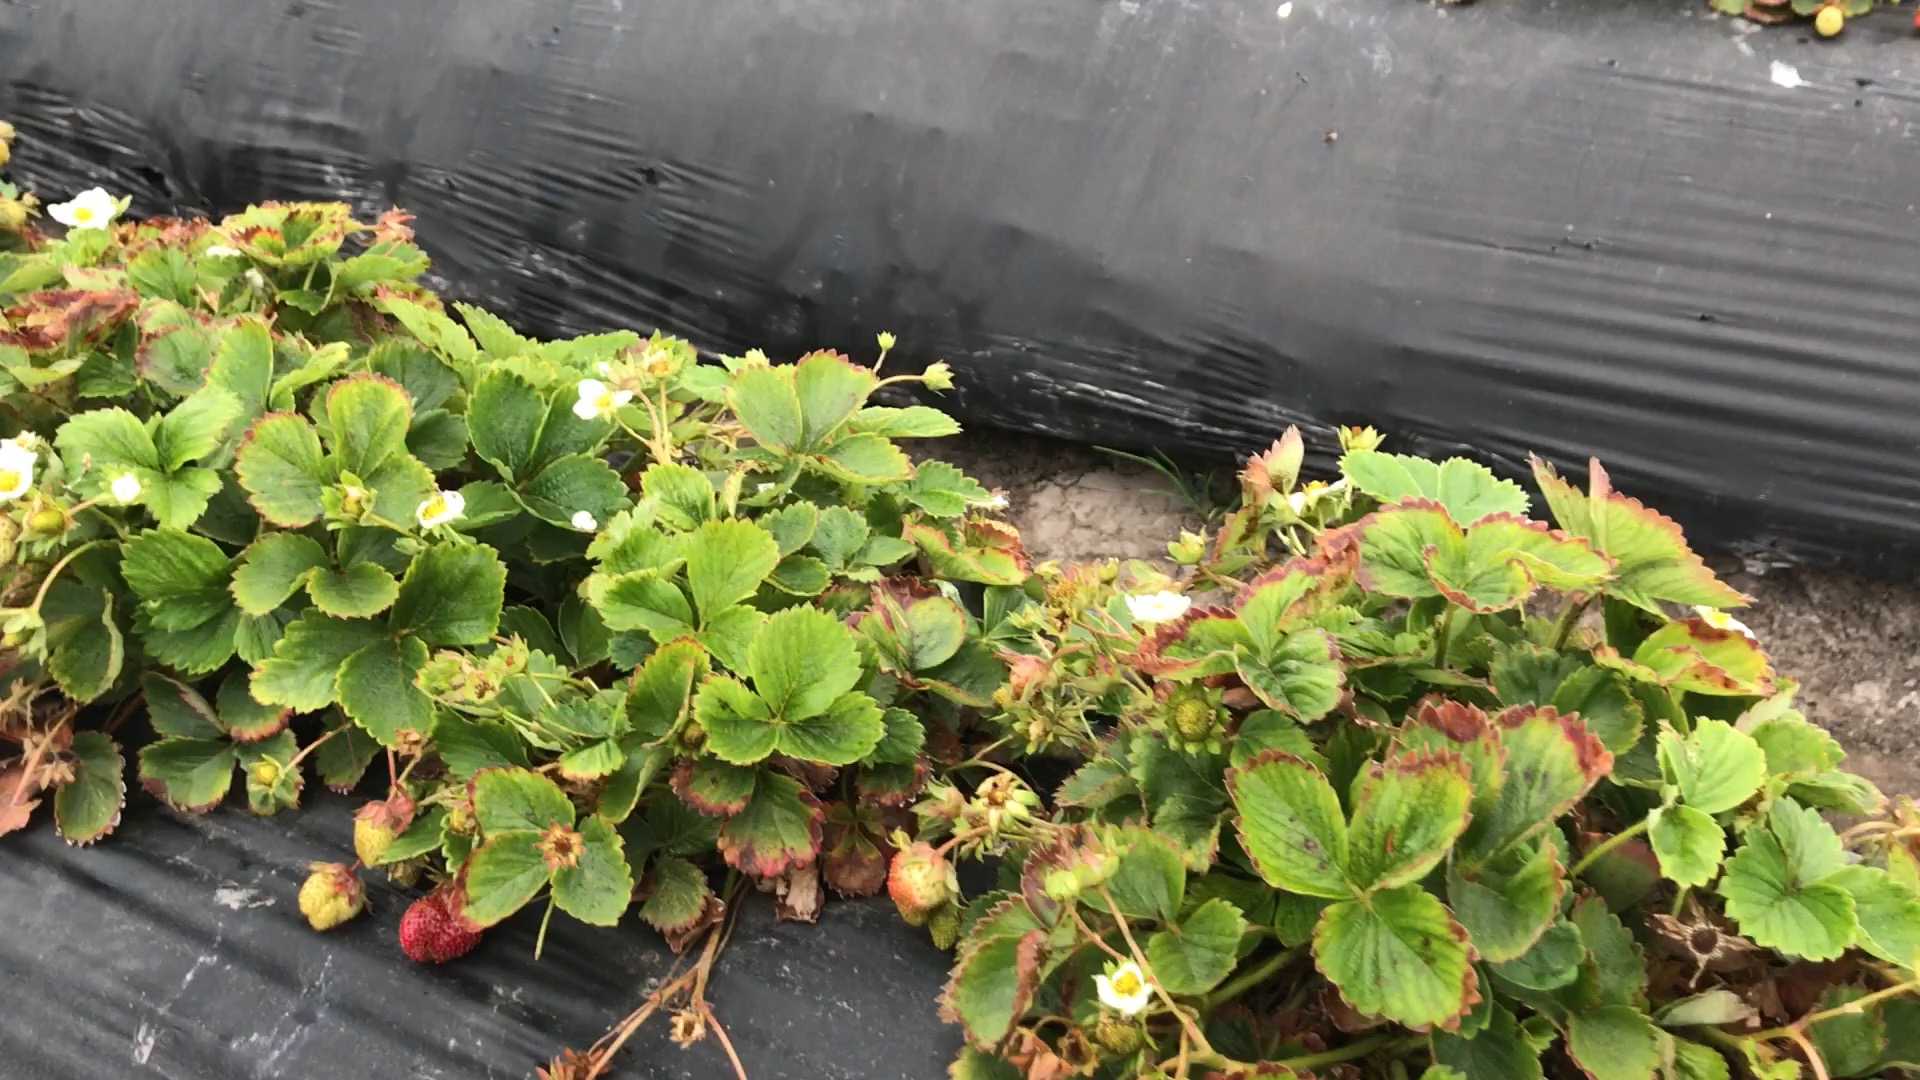ripe_strawberry: (400, 891, 483, 971)
unripe_strawberry: (882, 841, 952, 932), (291, 862, 365, 934), (352, 798, 409, 873), (1091, 1005, 1147, 1060), (1168, 692, 1221, 749)
